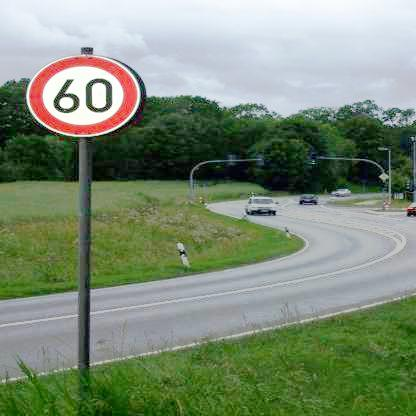Speed Limit -60-: (24, 52, 146, 140)
